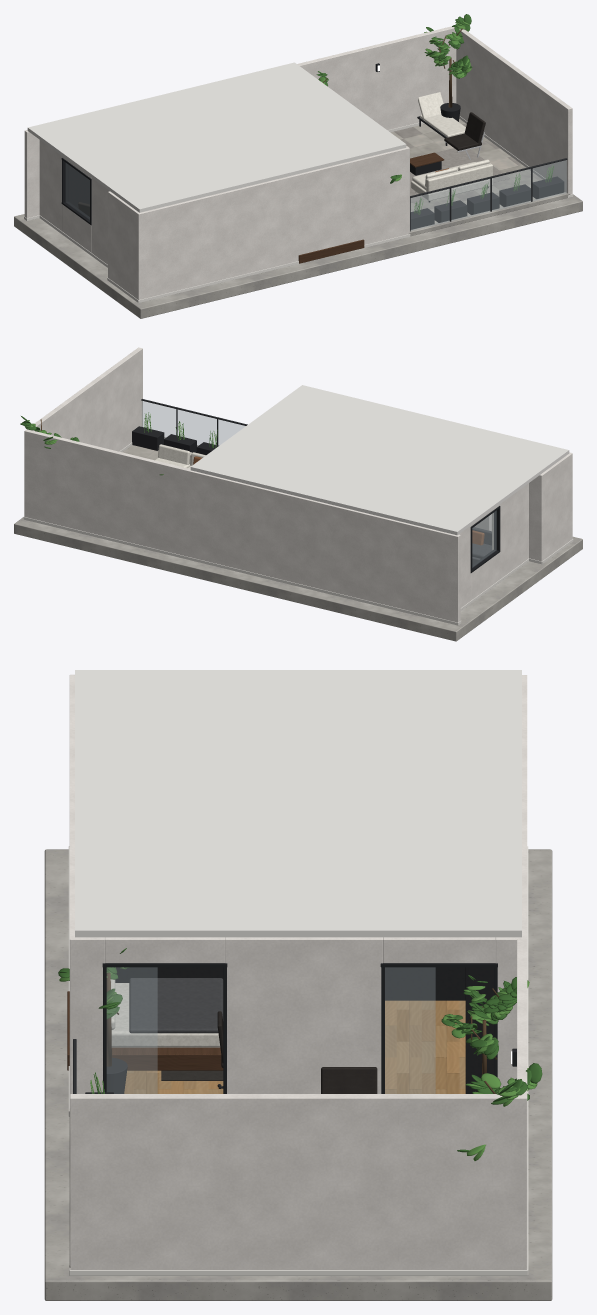
The model's file is apartment.glb.
3 renders of one model, top to bottom at view 1: azimuth 30°, elevation 25°; view 2: azimuth 150°, elevation 25°; view 3: azimuth 270°, elevation 25°, orthographic. The views are drawn at different scales.
Parts seen in each view (by area): view 1: Ceiling__ceiling, Walls_S__plaster, Static__concrete, Walls_N__plaster, Walls_E__plaster, Walls_W__plaster, Walls_S__glass, Static__paving, Static__linen, Static__pot_black, Static__leaf, Walls_W__glass (+9 smaller); view 2: Walls_N__plaster, Ceiling__ceiling, Static__concrete, Walls_W__plaster, Walls_E__plaster, Walls_S__glass, Walls_N__skirting, Static__pot_black, Walls_W__glass, Static__linen, Walls_W__frame, Static__charcoal (+1 smaller); view 3: Ceiling__ceiling, Walls_E__plaster, Walls_I__plaster, Static__concrete, Walls_I__glass, Static__oak_floor, Static__matte_black, Static__charcoal, Static__leaf, Walls_N__plaster, Walls_I__frame, Walls_E__skirting (+6 smaller).
Boxes of the visible parts, left/top/right/bottom form: Ceiling__ceiling: left=27, top=62, right=406, bottom=212; Walls_S__plaster: left=137, top=147, right=409, bottom=299; Static__concrete: left=14, top=192, right=582, bottom=318; Walls_N__plaster: left=24, top=26, right=456, bottom=217; Walls_E__plaster: left=456, top=28, right=572, bottom=194; Walls_W__plaster: left=39, top=140, right=141, bottom=299; Walls_S__glass: left=411, top=160, right=566, bottom=230; Static__paving: left=390, top=119, right=542, bottom=223; Static__linen: left=411, top=92, right=493, bottom=200; Static__pot_black: left=410, top=103, right=564, bottom=229; Static__leaf: left=316, top=14, right=553, bottom=213; Walls_W__glass: left=66, top=163, right=89, bottom=219; Walls_N__plaster: left=24, top=430, right=543, bottom=622; Ceiling__ceiling: left=190, top=385, right=569, bottom=535; Static__concrete: left=14, top=437, right=582, bottom=641; Walls_W__plaster: left=441, top=453, right=572, bottom=607; Walls_E__plaster: left=24, top=347, right=142, bottom=516; Walls_S__glass: left=142, top=401, right=245, bottom=446; Walls_N__skirting: left=24, top=517, right=541, bottom=625; Static__pot_black: left=132, top=426, right=218, bottom=454; Walls_W__glass: left=472, top=511, right=496, bottom=567; Static__linen: left=155, top=444, right=493, bottom=550; Walls_W__frame: left=470, top=506, right=500, bottom=572; Static__charcoal: left=472, top=527, right=491, bottom=564; Ceiling__ceiling: left=75, top=670, right=521, bottom=937; Walls_E__plaster: left=70, top=1094, right=526, bottom=1269; Walls_I__plaster: left=70, top=752, right=525, bottom=1093; Static__concrete: left=44, top=849, right=552, bottom=1300; Walls_I__glass: left=107, top=967, right=435, bottom=1093; Static__oak_floor: left=124, top=1000, right=465, bottom=1093; Static__matte_black: left=115, top=967, right=493, bottom=1093; Static__charcoal: left=129, top=978, right=223, bottom=1033; Static__leaf: left=58, top=948, right=542, bottom=1152; Walls_N__plaster: left=517, top=675, right=527, bottom=1269; Walls_I__frame: left=102, top=963, right=497, bottom=1093; Walls_E__skirting: left=69, top=1265, right=527, bottom=1275.
Size of the model in its own units: 13.7 by 3.25 by 6.75.
Materials: 48 (21 with a texture image).
